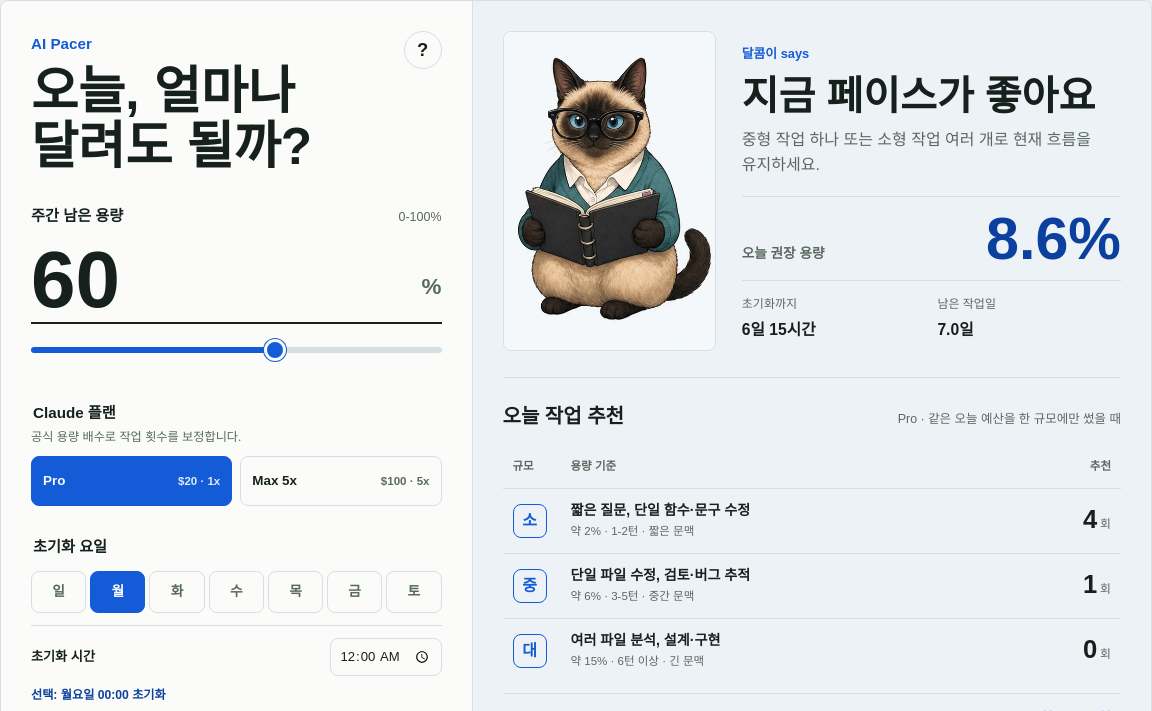
Test case: AiPacerApp › applies the Max 5x plan correction
What coordinates should you click on to do the following:
click the button with aria-label "Max 5x, 월 100달러, 5배 용량"
I would click on:
 (341, 481)
Its box is [240,456,442,506].
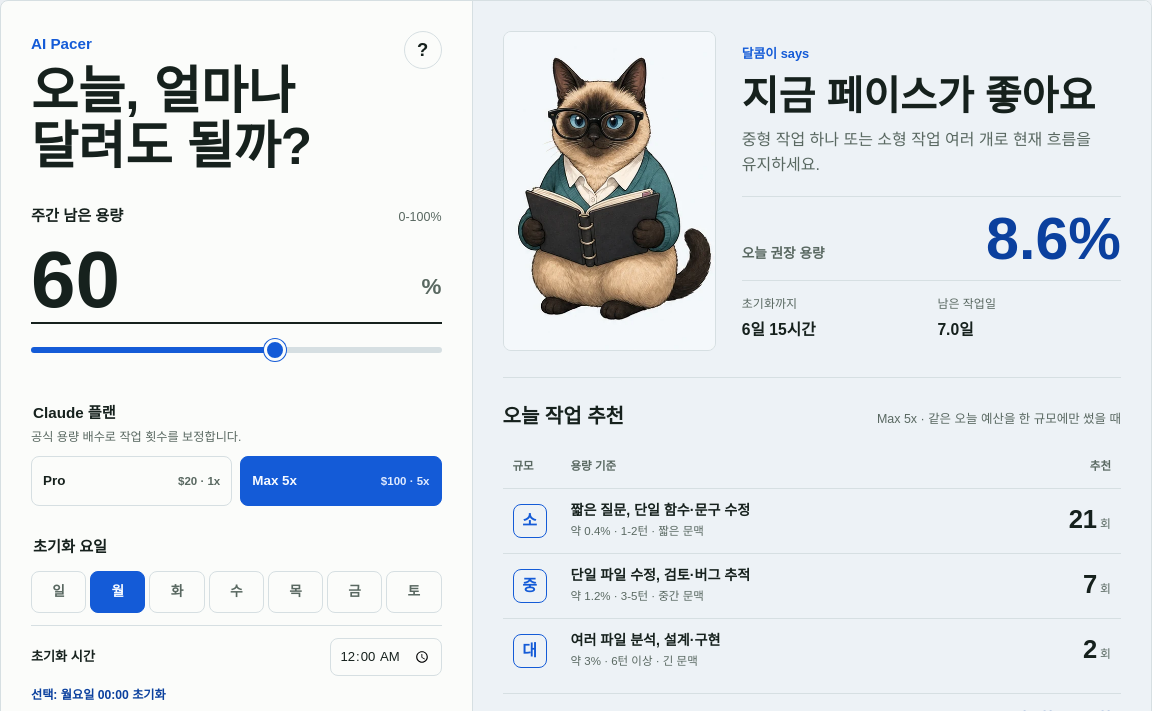
Check: the row "소 짧은 질문, 단일 함수·문구 수정 약 0.4% · 1-2턴 · 짧은 문맥 21회" is shown, box [502,489,1121,554]
Check: the row "중 단일 파일 수정, 검토·버그 추적 약 1.2% · 3-5턴 · 중간 문맥 7회" is shown, box [502,554,1121,619]
Check: the row "대 여러 파일 분석, 설계·구현 약 3% · 6턴 이상 · 긴 문맥 2회" is shown, box [502,619,1121,684]
